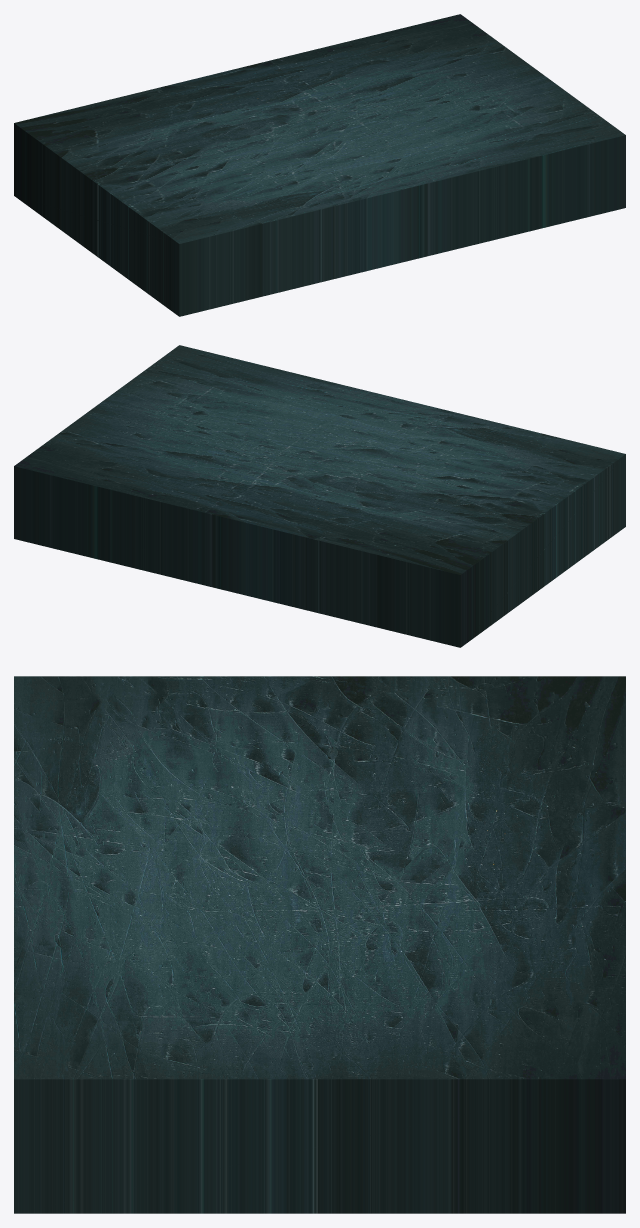
The picture shows the model from 3 angles, top to bottom: view 1: azimuth 30°, elevation 25°; view 2: azimuth 150°, elevation 25°; view 3: azimuth 270°, elevation 25°; orthographic projection. The views are drawn at different scales.
Parts seen in each view (by area): view 1: Plane.001; view 2: Plane.001; view 3: Plane.001.
Part boxes in pixels (x1=…): Plane.001: x1=14, y1=14, x2=625, y2=316; Plane.001: x1=14, y1=345, x2=625, y2=647; Plane.001: x1=14, y1=676, x2=625, y2=1213.
Size of the model in its own units: 3.32 by 0.5214 by 2.13.
Materials: 6 (5 with a texture image).
